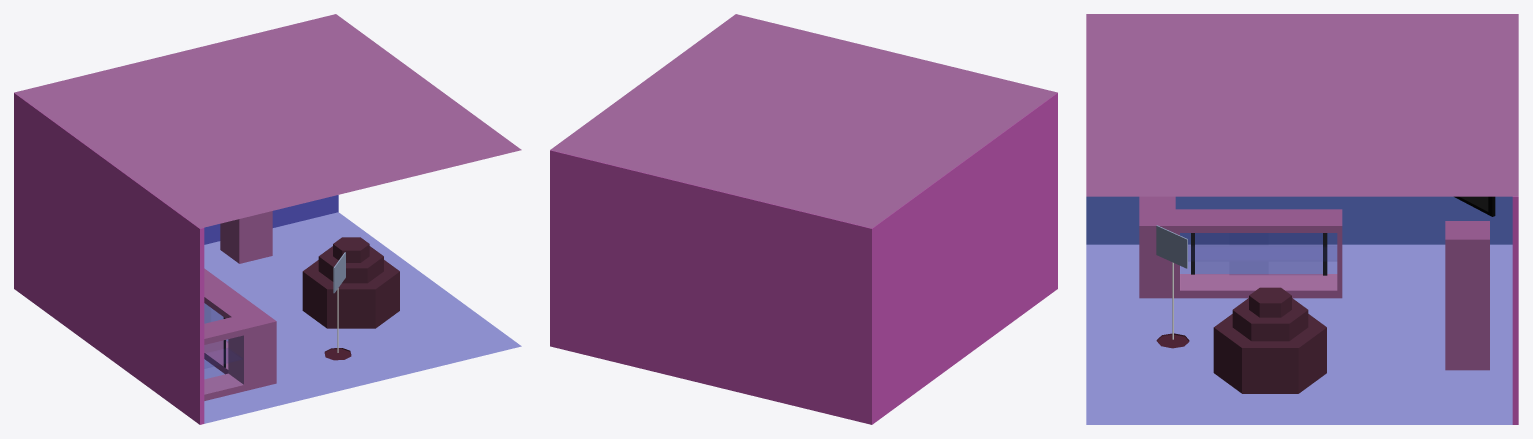
The model's file is storefront_mr-chocolate.glb.
The picture shows the model from 3 angles, left to right: view 1: azimuth 30°, elevation 25°; view 2: azimuth 150°, elevation 25°; view 3: azimuth 270°, elevation 25°; orthographic projection. The views are drawn at different scales.
Parts seen in each view (by area): view 1: storefront_ceiling, storefront_walls, storefront_floor, storefront_displaycase-Lshaped1, storefront_displaycase-6face, human_block, storefront_sign; view 2: storefront_walls, storefront_ceiling; view 3: storefront_ceiling, storefront_floor, storefront_displaycase-Lshaped1, storefront_walls, storefront_displaycase-6face, human_block, storefront_sign, storefront_tv.
Part boxes in pixels (bbox=[...]): storefront_ceiling: bbox=[14, 14, 521, 228]; storefront_walls: bbox=[14, 93, 338, 424]; storefront_floor: bbox=[204, 212, 521, 423]; storefront_displaycase-Lshaped1: bbox=[204, 268, 276, 400]; storefront_displaycase-6face: bbox=[302, 237, 399, 328]; human_block: bbox=[220, 211, 272, 263]; storefront_sign: bbox=[324, 252, 351, 360]; storefront_walls: bbox=[550, 93, 1057, 424]; storefront_ceiling: bbox=[550, 14, 1057, 228]; storefront_ceiling: bbox=[1086, 14, 1518, 196]; storefront_floor: bbox=[1086, 244, 1512, 424]; storefront_displaycase-Lshaped1: bbox=[1139, 196, 1342, 298]; storefront_walls: bbox=[1086, 196, 1518, 424]; storefront_displaycase-6face: bbox=[1213, 287, 1326, 393]; human_block: bbox=[1445, 221, 1489, 370]; storefront_sign: bbox=[1156, 225, 1189, 348]; storefront_tv: bbox=[1454, 196, 1495, 216].
Bounding box in the file's own units: 6 × 3.5 × 6.
